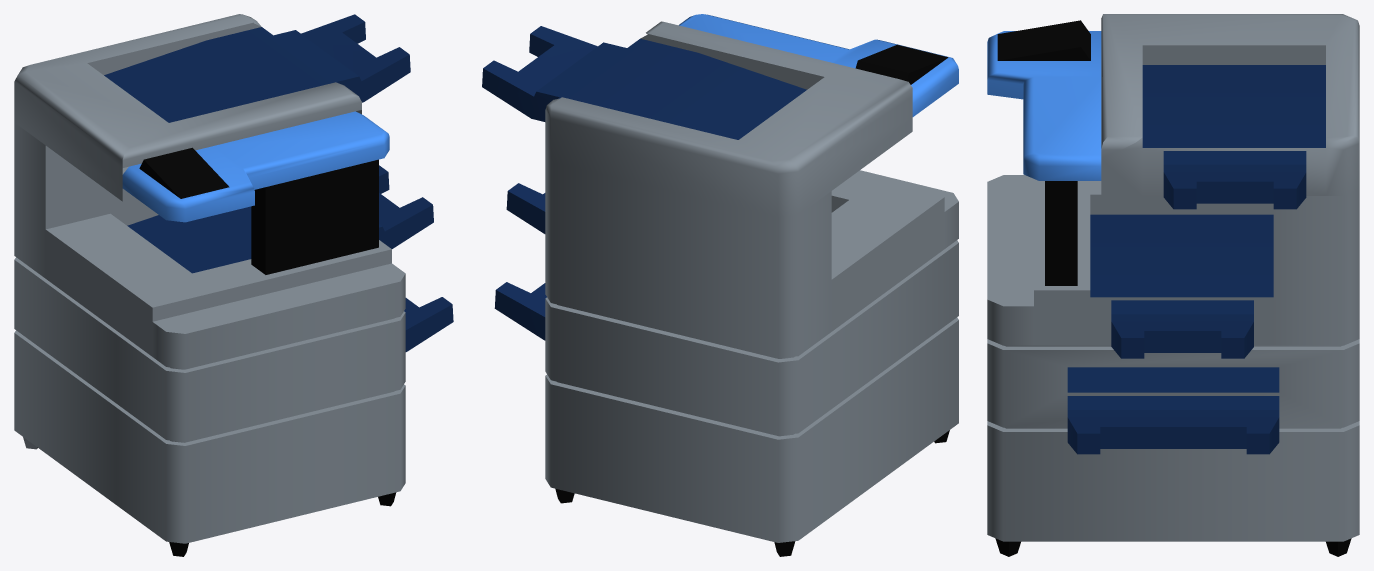
The model's file is officePrinter.fbx.
The picture shows the model from 3 angles, left to right: view 1: azimuth 30°, elevation 25°; view 2: azimuth 150°, elevation 25°; view 3: azimuth 270°, elevation 25°; orthographic projection. The views are drawn at different scales.
Parts seen in each view (by area): view 1: mesh_office_printer; view 2: mesh_office_printer; view 3: mesh_office_printer.
Part boxes in pixels (<box>): mesh_office_printer: <box>14,14,453,556</box>; mesh_office_printer: <box>482,14,958,556</box>; mesh_office_printer: <box>987,14,1359,556</box>.
Bounding box in the file's own units: 495 × 554 × 444.
